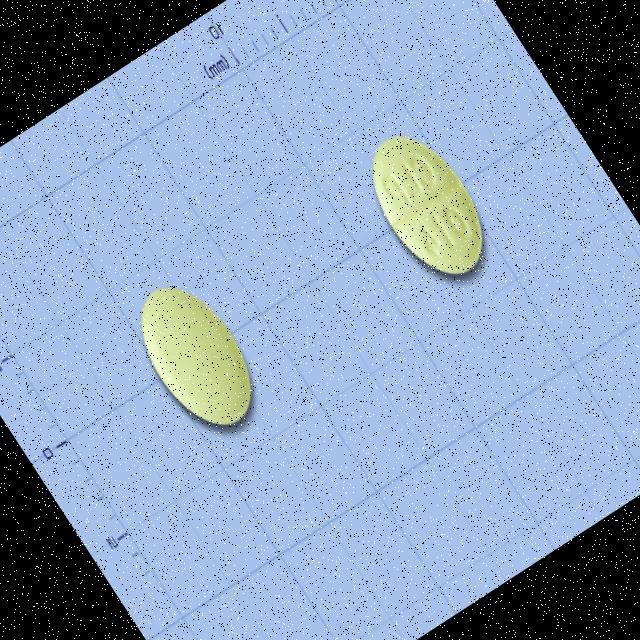Immuthera: (348, 114, 506, 293), (118, 268, 274, 444)
